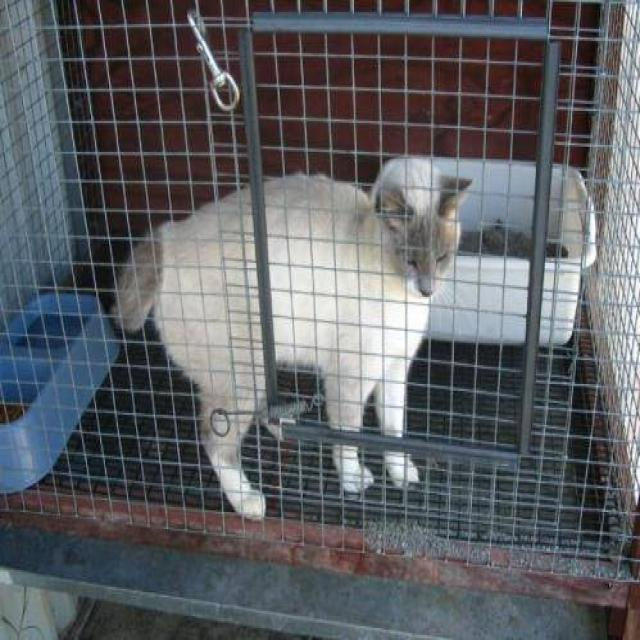cat: (109, 154, 473, 520)
